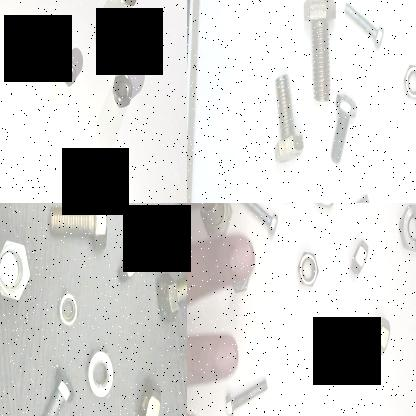Bolts: (298, 0, 339, 104), (265, 68, 305, 166), (154, 249, 187, 331), (34, 360, 78, 416), (222, 368, 271, 416), (327, 92, 358, 166), (342, 0, 384, 51), (233, 203, 279, 236), (322, 189, 370, 203)
NUTS: (84, 344, 116, 400), (293, 242, 323, 296), (114, 236, 144, 288), (129, 378, 165, 416), (346, 233, 370, 290), (54, 285, 82, 333), (366, 312, 392, 362), (395, 203, 416, 260), (111, 69, 134, 110), (320, 333, 344, 371), (401, 55, 416, 103), (59, 56, 77, 88)
